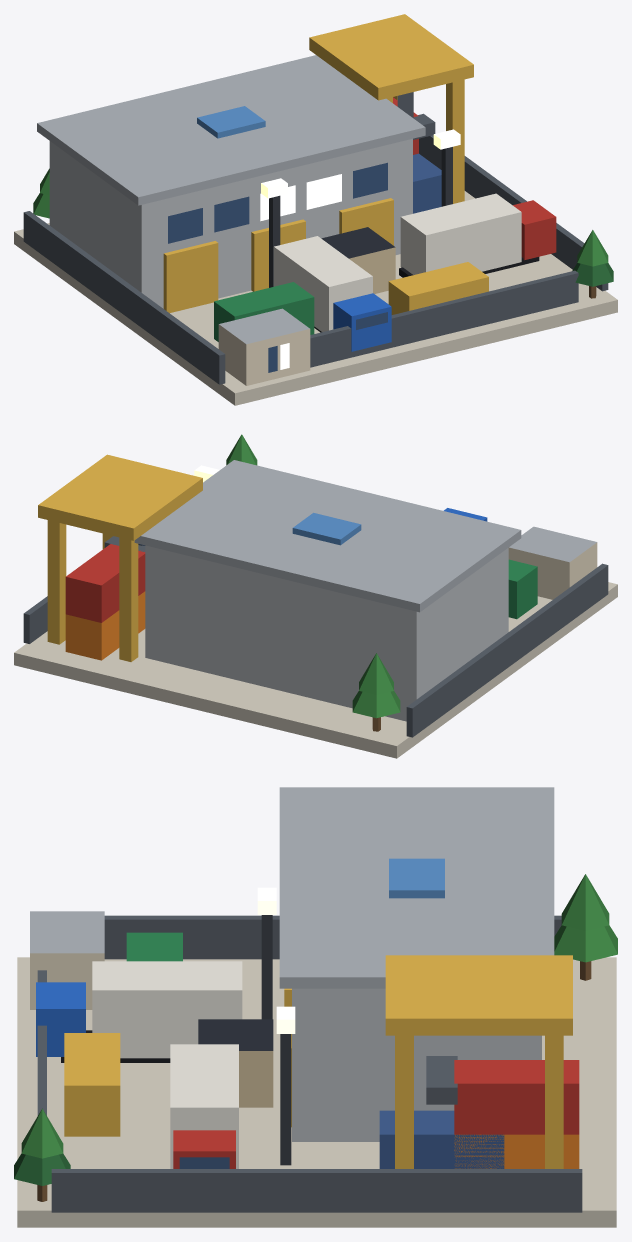
3 renders of one model, top to bottom at view 1: azimuth 30°, elevation 25°; view 2: azimuth 150°, elevation 25°; view 3: azimuth 270°, elevation 25°, orthographic. The views are drawn at different scales.
Visible parts, largest first — view 1: b33; view 2: b33; view 3: b33.
Part boxes in pixels (<box>): b33: <box>14,14,617,405</box>; b33: <box>14,434,617,758</box>; b33: <box>14,787,617,1227</box>.
Bounding box in the file's own units: 0.98 × 0.36 × 0.9674.
